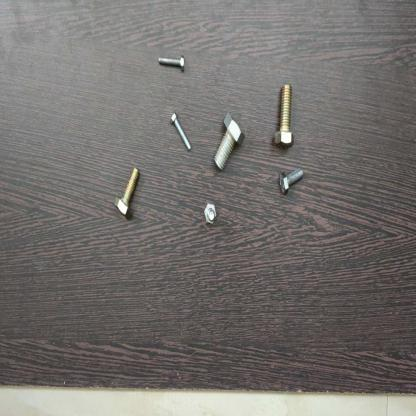Bolts: (204, 110, 248, 177), (110, 166, 145, 226), (271, 83, 296, 153), (167, 109, 193, 161), (276, 162, 306, 196), (154, 54, 188, 76), (200, 200, 219, 228)
